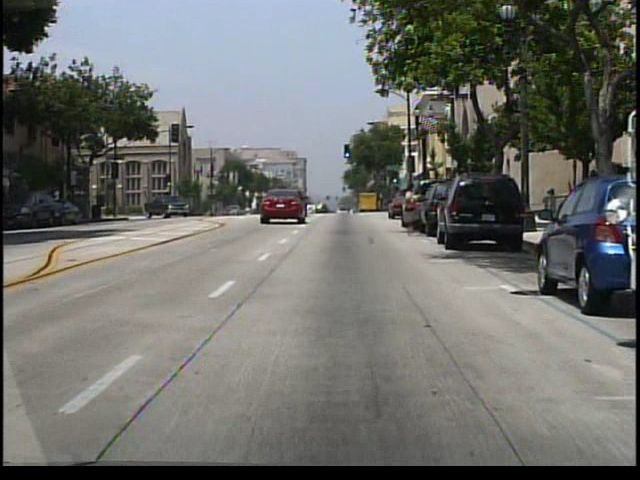person: (400, 182, 428, 237)
